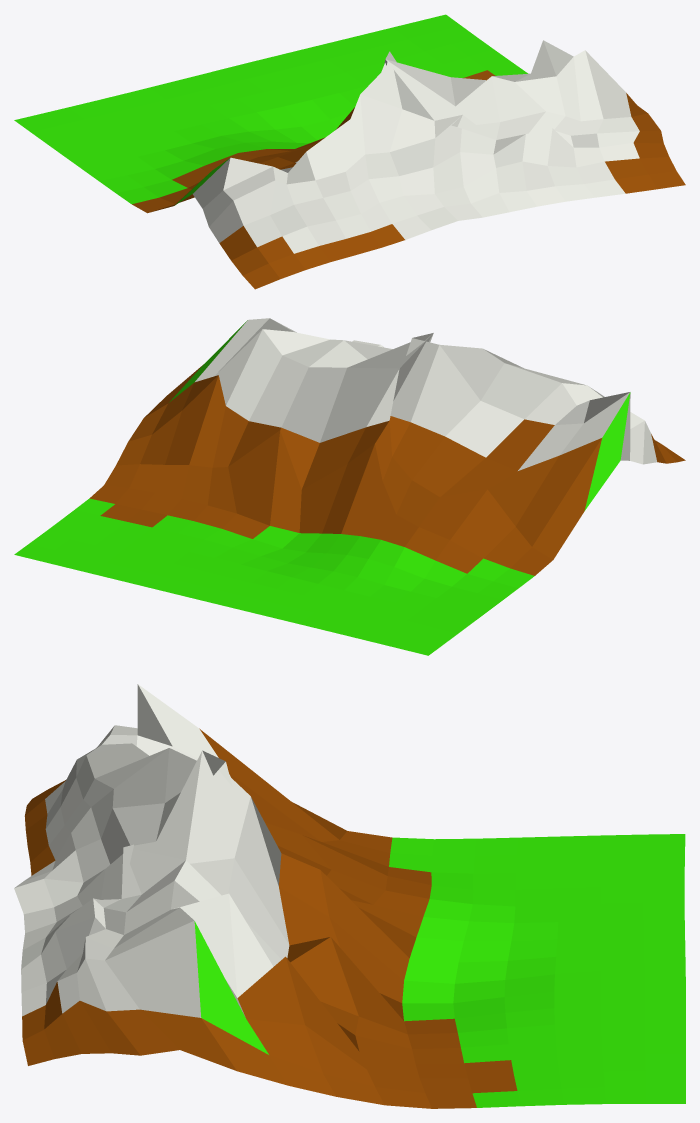
The model's file is mountain.glb.
3 views of the same model, one above another, from view 1: azimuth 30°, elevation 25°; view 2: azimuth 150°, elevation 25°; view 3: azimuth 270°, elevation 25° (orthographic). The views are drawn at different scales.
Parts seen in each view (by area): view 1: Plane; view 2: Plane; view 3: Plane.
Part boxes in pixels (<box>): Plane: <box>14,14,685,289</box>; Plane: <box>14,318,685,655</box>; Plane: <box>14,684,685,1108</box>.
Size of the model in its own units: 55.77 by 19.1 by 54.02.
